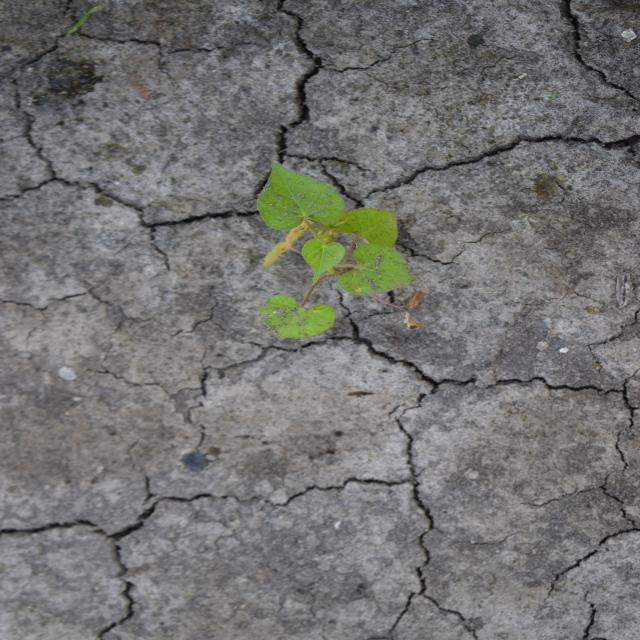MorningGlory: (254, 160, 433, 344)
